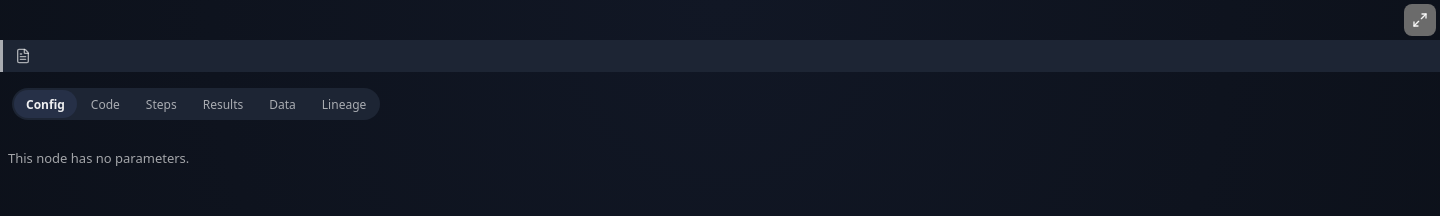
Test: the Lineage tab traces the selected node without a prior run
This screenshot has width=1440, height=216.
Click the button with test id "inspector-tab-lineage".
click(344, 104)  # box x1=310 y1=90 x2=378 y2=118
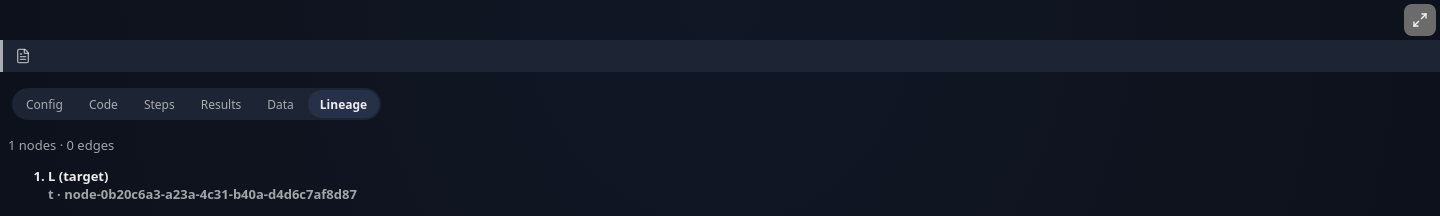
Check: the list item with test id "lineage-target" shows "L", box x1=48 y1=167 x2=55 y2=185
